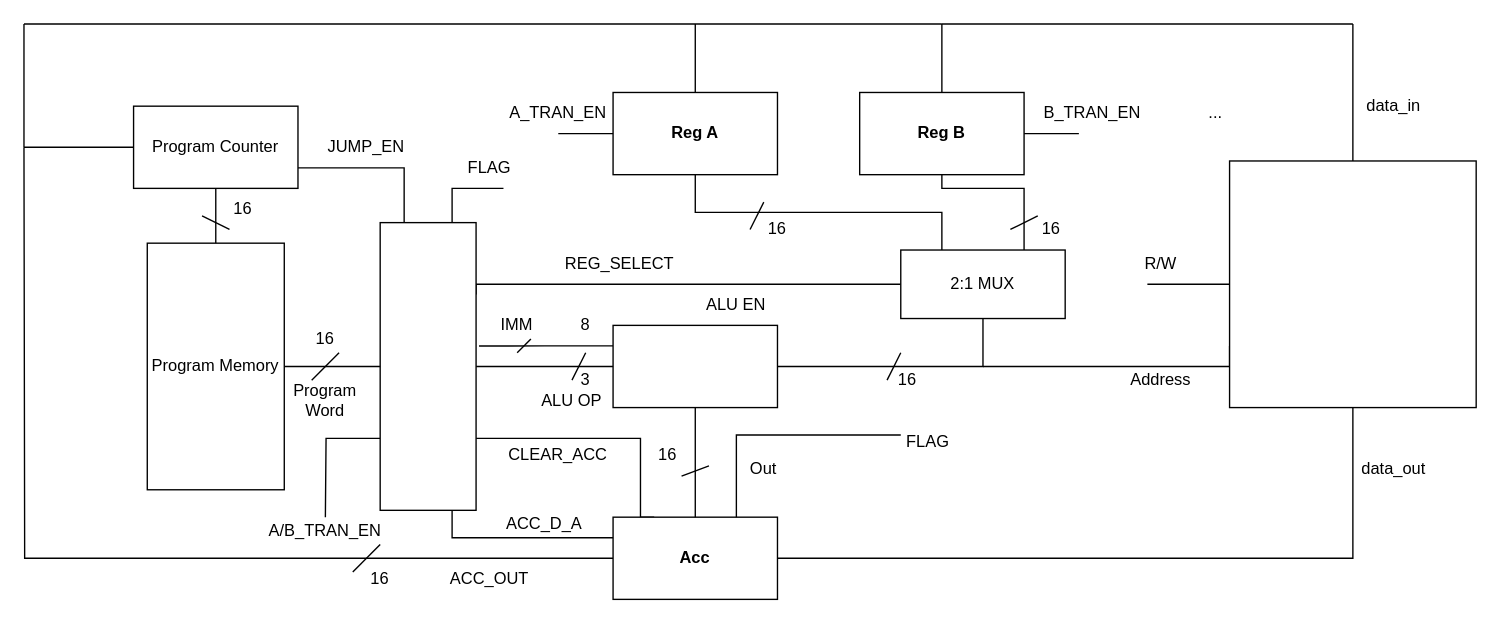
Some shapes in this 1500 by 623 pixel diagram are drawn without their labels. Here are the shapes that lost their labels. From the top down, the centre of each, then its label:
At [1352,284]: "Data Memory".
At [427,365]: "Instruction Decoder".
At [694,366]: "ALU".
